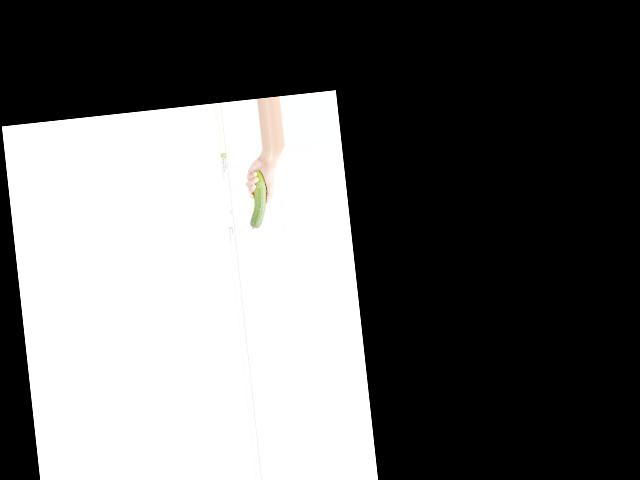cucumber: (244, 170, 269, 229)
